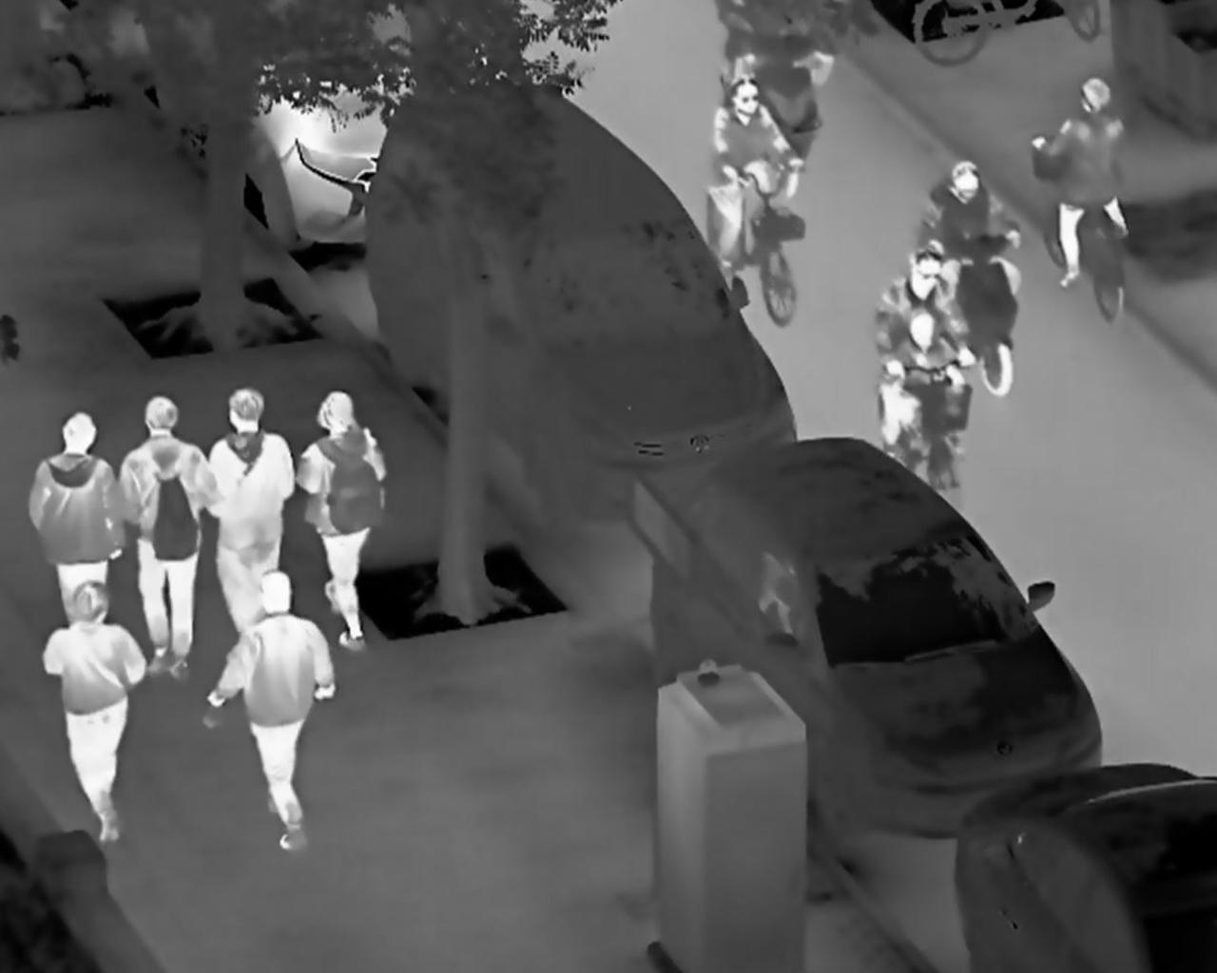person: (207, 569, 335, 850), (119, 394, 220, 684), (38, 582, 146, 841), (292, 390, 390, 655), (206, 387, 297, 638), (872, 246, 979, 456), (27, 408, 124, 629), (1033, 73, 1133, 286), (921, 157, 1025, 337), (707, 74, 802, 268)
